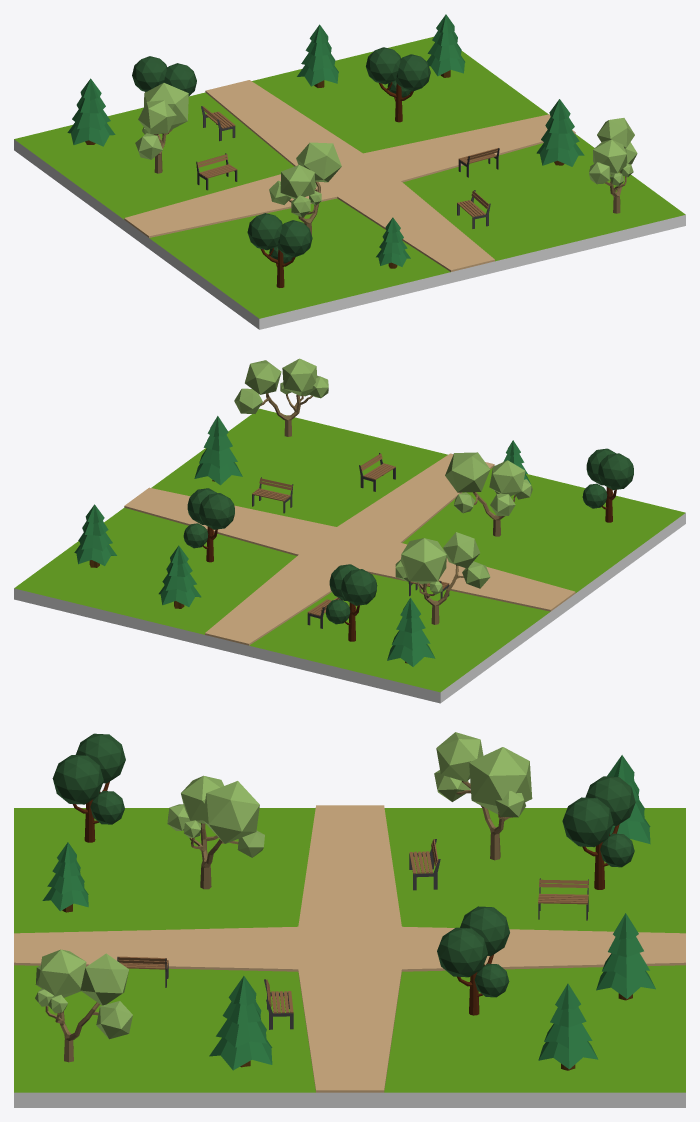
Rendered from Park 2x2.gltf.
3 views of the same model, one above another, from view 1: azimuth 30°, elevation 25°; view 2: azimuth 150°, elevation 25°; view 3: azimuth 270°, elevation 25° (orthographic). The views are drawn at different scales.
Parts seen in each view (by area): view 1: BAZA 2x2, jelke.001, DRVO 3.002, Tree 3.002, Tree 4.002, Tree 4.003, kluice; view 2: BAZA 2x2, jelke.001, DRVO 3.002, Tree 4.002, Tree 3.002, Tree 4.003, kluice; view 3: BAZA 2x2, DRVO 3.002, jelke.001, Tree 4.002, Tree 4.003, Tree 3.002, kluice.
Boxes of the visible parts, <box> form: BAZA 2x2: <box>14,36,685,329</box>; jelke.001: <box>67,14,584,268</box>; DRVO 3.002: <box>132,47,430,287</box>; Tree 3.002: <box>269,142,341,235</box>; Tree 4.002: <box>135,83,188,173</box>; Tree 4.003: <box>589,118,637,213</box>; kluice: <box>196,106,499,228</box>; BAZA 2x2: <box>14,408,685,703</box>; jelke.001: <box>74,416,530,666</box>; DRVO 3.002: <box>183,448,633,641</box>; Tree 4.002: <box>395,532,490,624</box>; Tree 3.002: <box>445,452,532,536</box>; Tree 4.003: <box>234,358,328,436</box>; kluice: <box>252,453,449,628</box>; BAZA 2x2: <box>14,805,685,1107</box>; DRVO 3.002: <box>52,733,635,1015</box>; jelke.001: <box>42,755,655,1070</box>; Tree 4.002: <box>434,732,532,860</box>; Tree 4.003: <box>35,949,132,1062</box>; Tree 3.002: <box>167,775,264,889</box>; kluice: <box>117,839,588,1029</box>.
Bounding box in the file's own units: 4.02 × 0.8662 × 4.
